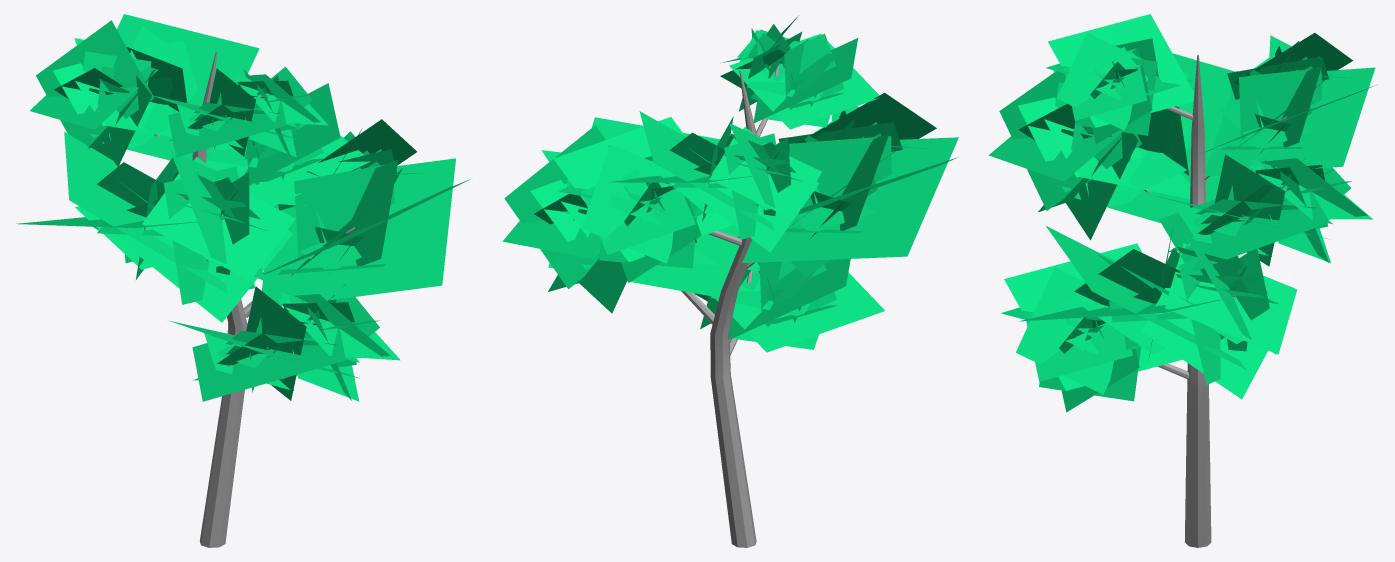
3 views of the same model, side by side, from view 1: azimuth 30°, elevation 25°; view 2: azimuth 150°, elevation 25°; view 3: azimuth 270°, elevation 25° (orthographic). The views are drawn at different scales.
Parts seen in each view (by area): view 1: pasted__pasted__pasted__pasted__pasted__pasted__pasted__pPla; view 2: pasted__pasted__pasted__pasted__pasted__pasted__pasted__pPla; view 3: pasted__pasted__pasted__pasted__pasted__pasted__pasted__pPla.
Boxes of the visible parts, x1,y1,x2,y2 form: pasted__pasted__pasted__pasted__pasted__pasted__pasted__pPla: (16, 14, 470, 547); pasted__pasted__pasted__pasted__pasted__pasted__pasted__pPla: (502, 15, 958, 547); pasted__pasted__pasted__pasted__pasted__pasted__pasted__pPla: (988, 14, 1377, 547).
Bounding box in the file's own units: 338 × 400 × 279.
